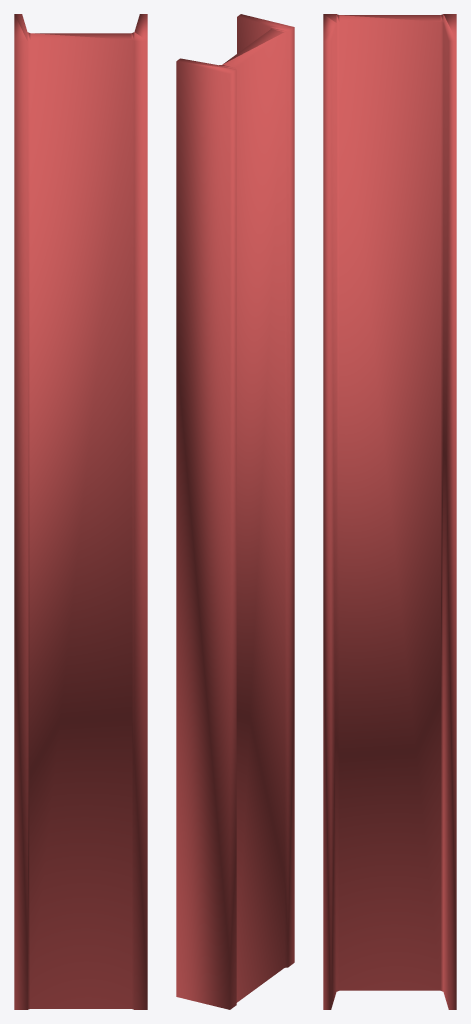
Rendered from laser_rail_01.glb.
3 renders of one model, left to right at view 1: azimuth 90°, elevation 25°; view 2: azimuth 150°, elevation 25°; view 3: azimuth 270°, elevation 25°, orthographic. The views are drawn at different scales.
Parts seen in each view (by area): view 1: Steel_Beam; view 2: Steel_Beam; view 3: Steel_Beam.
Boxes of the visible parts, <box> form: Steel_Beam: <box>14,14,147,1009</box>; Steel_Beam: <box>176,14,294,1009</box>; Steel_Beam: <box>323,14,456,1009</box>.
Size of the model in its own units: 0.1199 by 2 by 0.2498.
